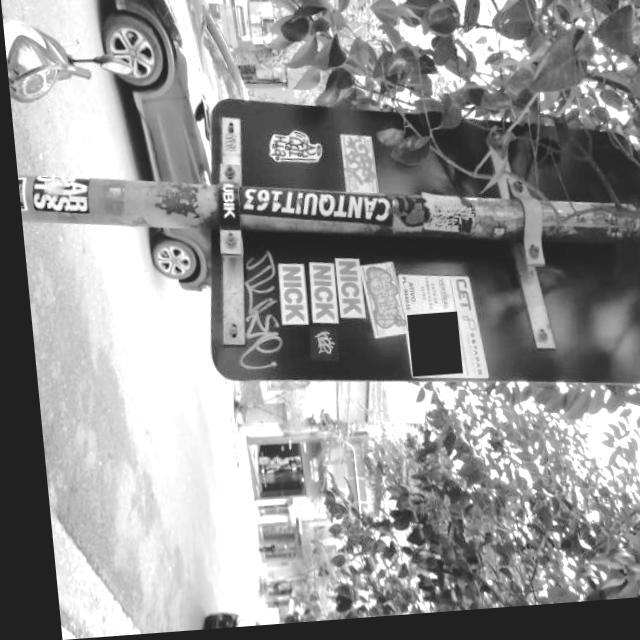qr_code: (399, 318, 454, 383)
